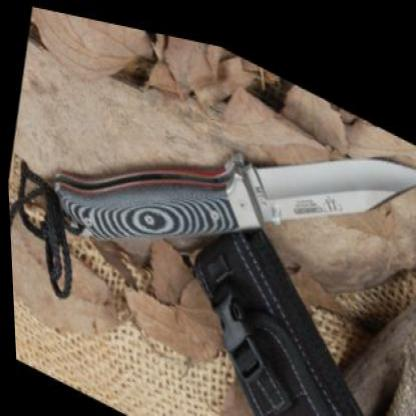knife: (201, 48, 414, 307)
